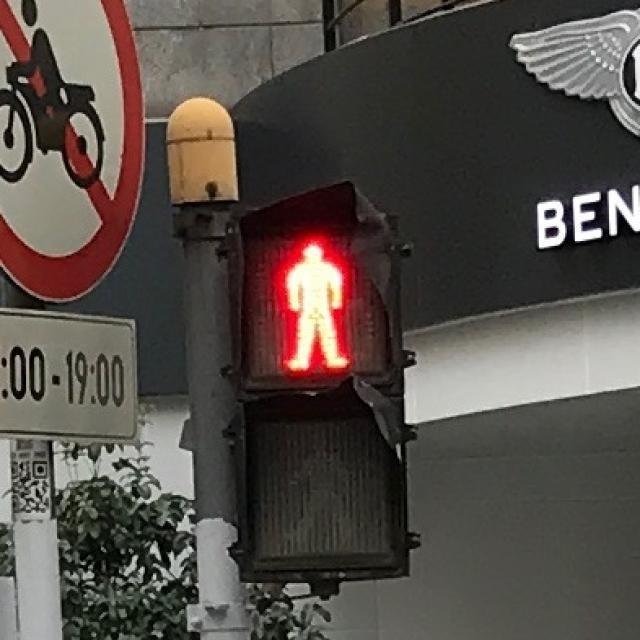red-crossing: (240, 224, 390, 384)
